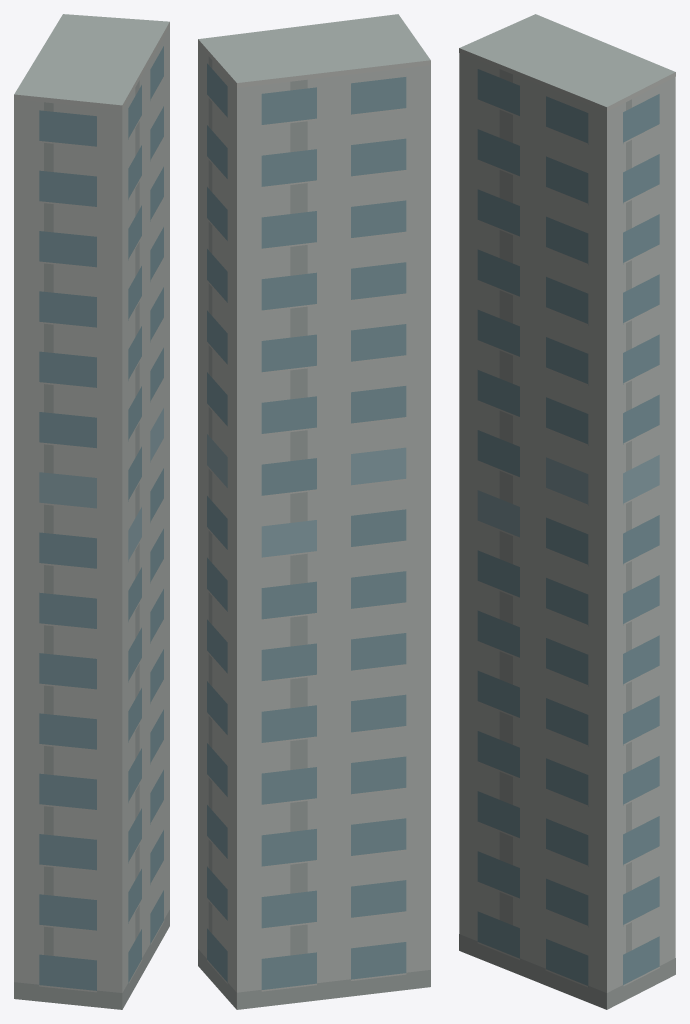
The model's file is survey-upis-32888927.glb.
3 renders of one model, left to right at view 1: azimuth 30°, elevation 25°; view 2: azimuth 150°, elevation 25°; view 3: azimuth 270°, elevation 25°, orthographic. The views are drawn at different scales.
Visible parts, largest first — view 1: survey-upis-32888927.tmp; view 2: survey-upis-32888927.tmp; view 3: survey-upis-32888927.tmp.
Boxes of the visible parts, x1,y1,x2,y2 form: survey-upis-32888927.tmp: [14, 14, 169, 1009]; survey-upis-32888927.tmp: [198, 14, 430, 1009]; survey-upis-32888927.tmp: [459, 14, 675, 1009].
Size of the model in its own units: 10.14 by 45.75 by 9.95.
